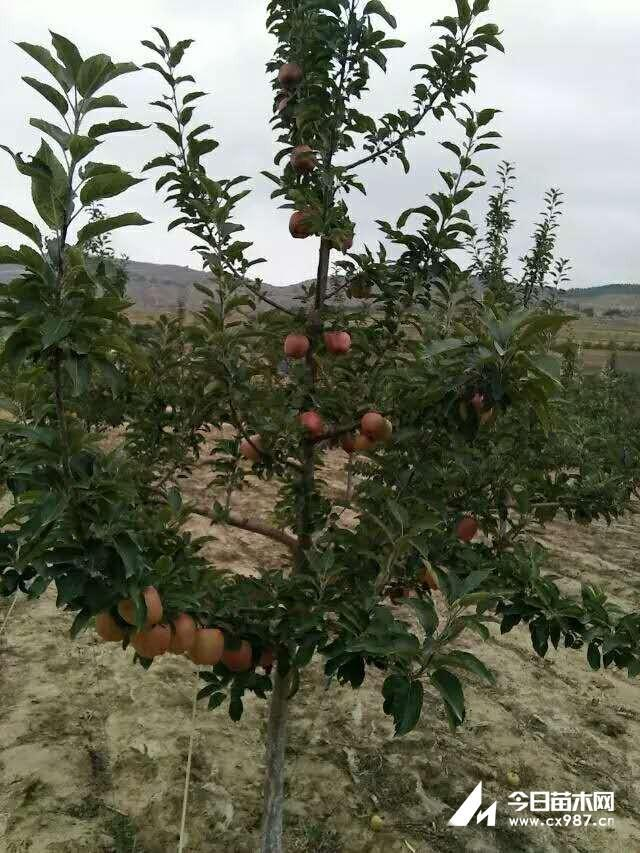apple: (120, 588, 163, 626), (217, 637, 253, 674), (132, 625, 171, 658), (195, 625, 225, 666), (168, 616, 196, 654), (283, 332, 308, 359), (326, 331, 353, 354), (361, 412, 385, 437), (303, 410, 326, 435)
